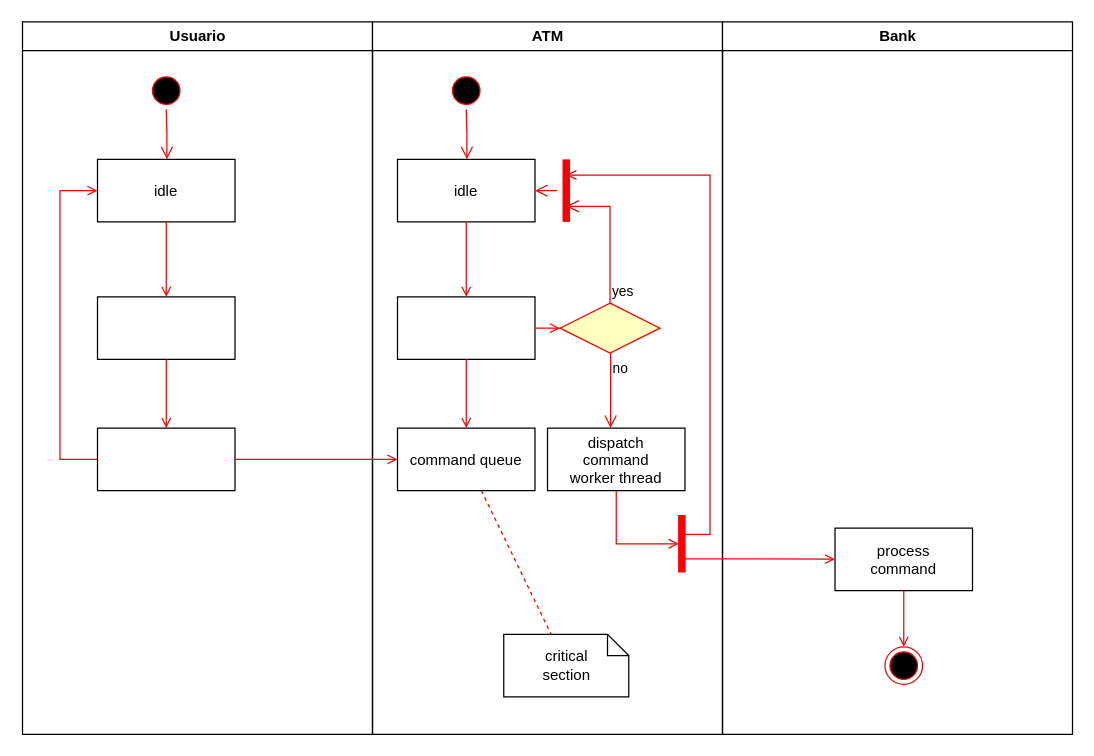
The diagram is 1094 pixels wide and 756 high, and some of its shapes have lost their labels. The centre of each missing label's shape, as x and y in pixels:
"check for new commands" goes at point 465,327.
"post command" goes at point 165,459.
"queue empty" goes at point 609,327.
"user action" goes at point 165,327.
